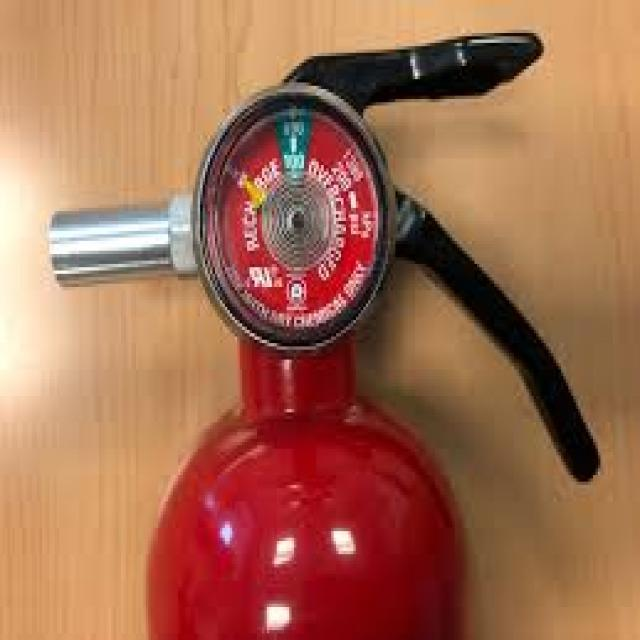pressure gauge: (194, 84, 394, 349)
